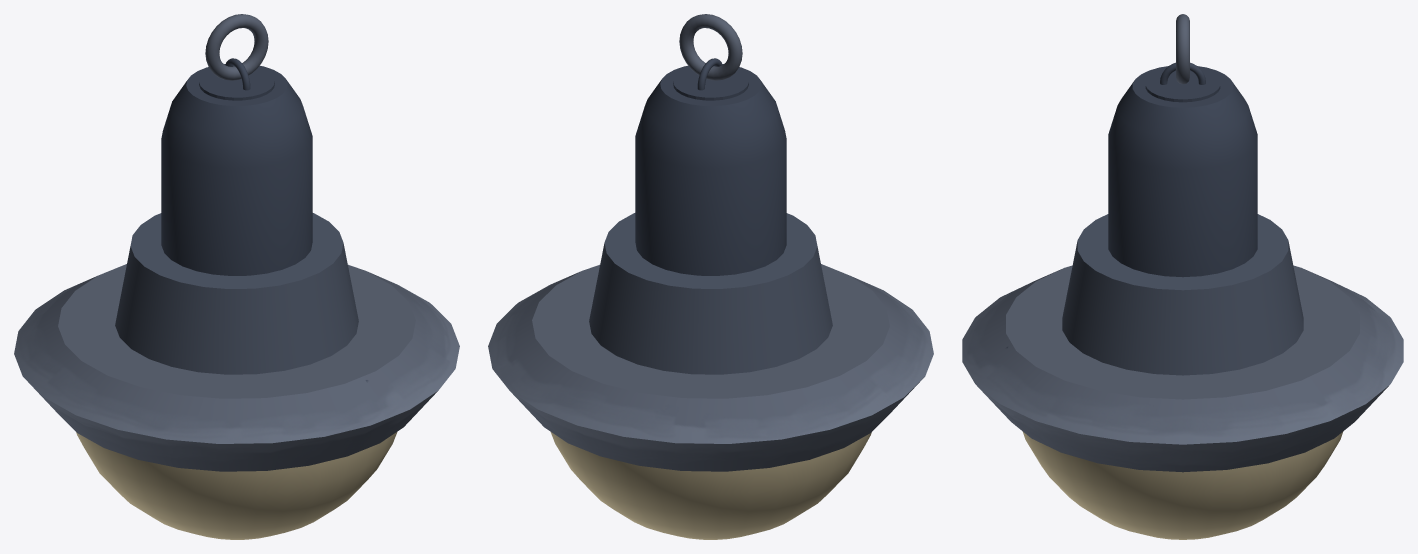
Rendered from M_Lamp_suspendue.FBX.
3 renders of one model, left to right at view 1: azimuth 30°, elevation 25°; view 2: azimuth 150°, elevation 25°; view 3: azimuth 270°, elevation 25°, orthographic.
Parts seen in each view (by area): view 1: suspendue; view 2: suspendue; view 3: suspendue.
Part boxes in pixels (x1,y1,x2,y2): suspendue: [14, 14, 459, 539]; suspendue: [488, 14, 933, 539]; suspendue: [962, 14, 1403, 539].
Size of the model in its own units: 34.35 by 43.19 by 34.1.
